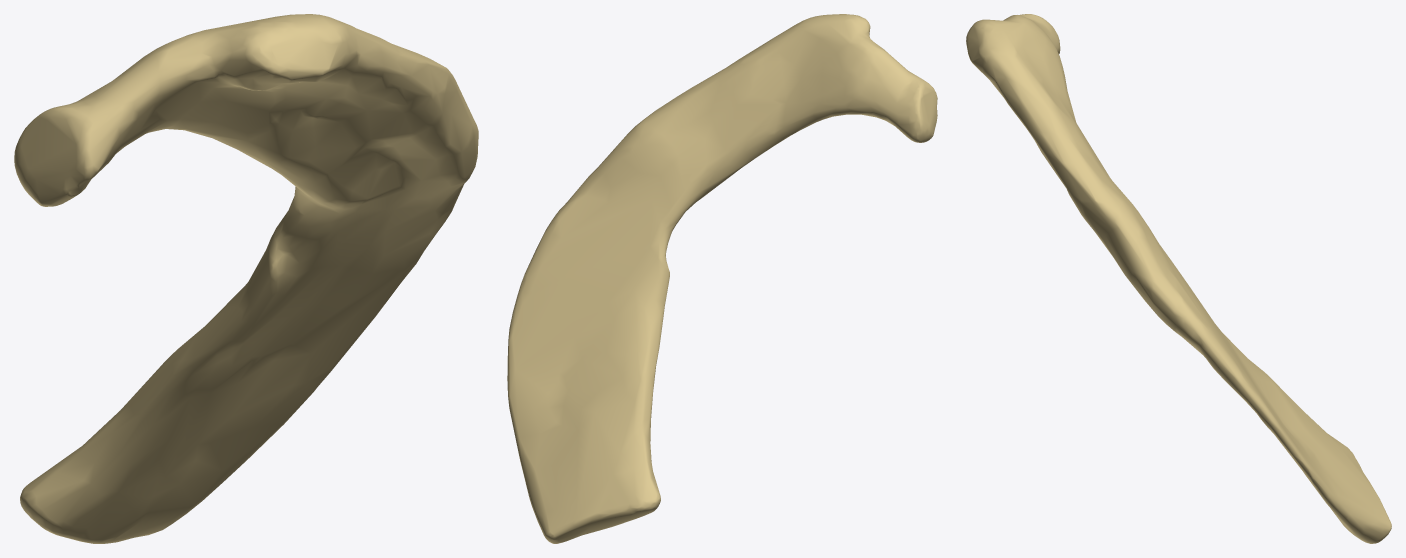
3 views of the same model, side by side, from view 1: azimuth 30°, elevation 25°; view 2: azimuth 150°, elevation 25°; view 3: azimuth 270°, elevation 25° (orthographic). The views are drawn at different scales.
Visible parts, largest first — view 1: 左侧第一肋; view 2: 左侧第一肋; view 3: 左侧第一肋.
Part boxes in pixels (x1,y1,x2,y2): 左侧第一肋: [14, 14, 478, 543]; 左侧第一肋: [507, 14, 937, 543]; 左侧第一肋: [966, 14, 1391, 543].
Size of the model in its own units: 0.0809 by 0.1041 by 0.0875.
